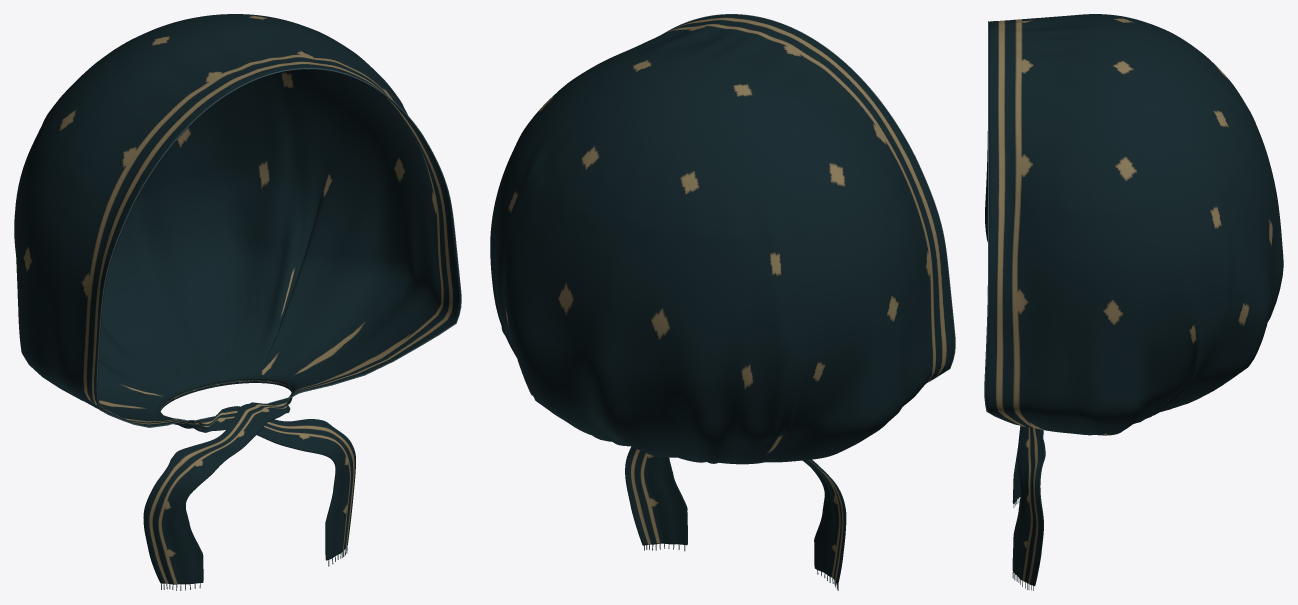
The model's file is Masculine-jersey-pashmina246-headgear.glb.
3 renders of one model, left to right at view 1: azimuth 30°, elevation 25°; view 2: azimuth 150°, elevation 25°; view 3: azimuth 270°, elevation 25°, orthographic. The views are drawn at different scales.
Parts seen in each view (by area): view 1: 226 headgear / Headwear / continuous woven pashmina239, 226 headgear / Headwear / face edge239; view 2: 226 headgear / Headwear / continuous woven pashmina239, 226 headgear / Headwear / face edge239; view 3: 226 headgear / Headwear / continuous woven pashmina239, 226 headgear / Headwear / face edge239.
Boxes of the visible parts, box(x1,y1,x2,y2) form: 226 headgear / Headwear / continuous woven pashmina239: box(14, 14, 460, 584); 226 headgear / Headwear / face edge239: box(96, 68, 461, 427); 226 headgear / Headwear / continuous woven pashmina239: box(490, 14, 954, 584); 226 headgear / Headwear / face edge239: box(663, 14, 955, 382); 226 headgear / Headwear / continuous woven pashmina239: box(985, 14, 1283, 586); 226 headgear / Headwear / face edge239: box(984, 21, 1018, 425).
Size of the model in its own units: 1.03 by 1.35 by 0.7127.
Materials: 3 (1 with a texture image).
